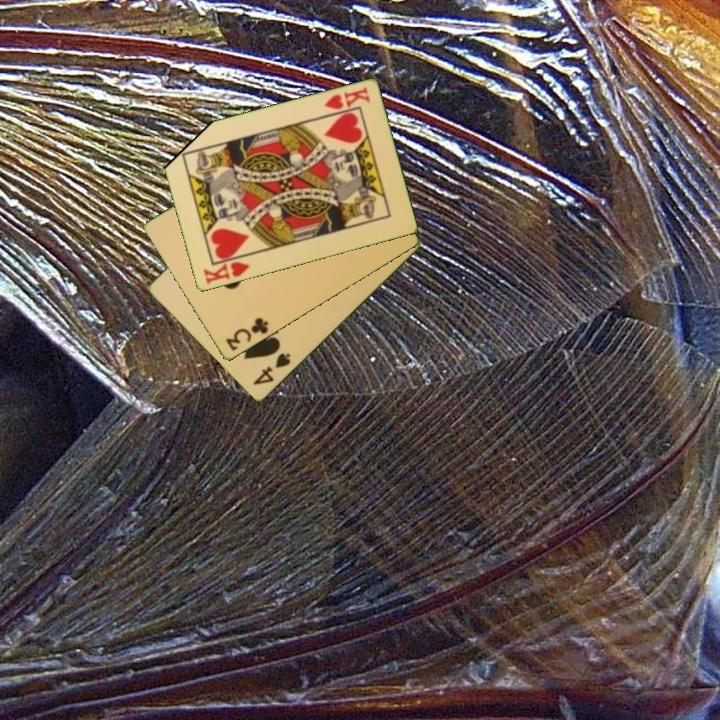3c: (222, 314, 271, 354)
4s: (249, 349, 293, 388)
Kh: (200, 252, 252, 288), (321, 84, 373, 113)
